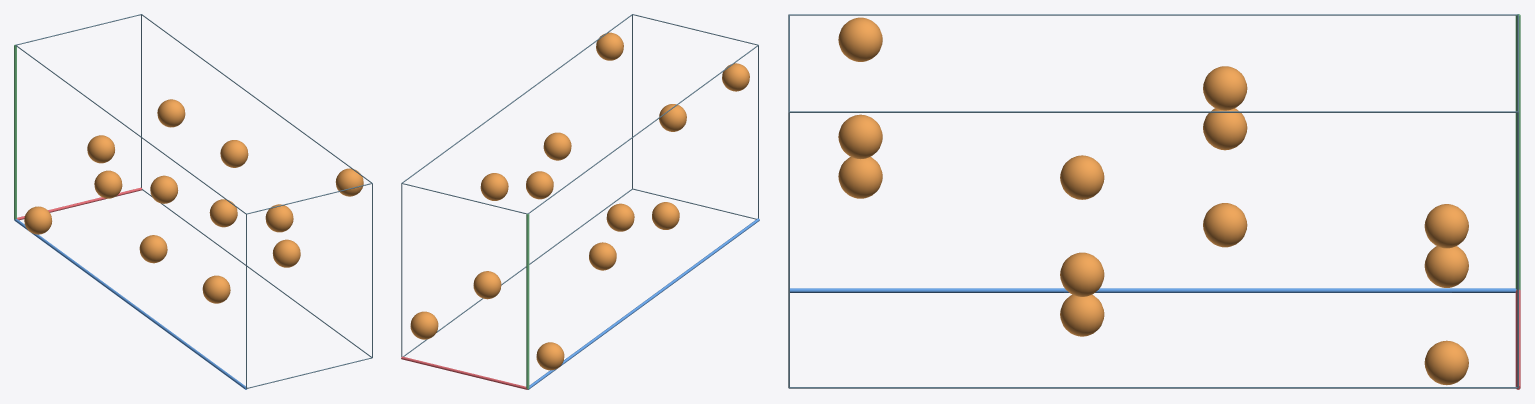
The model's file is nguyen-to-p.glb.
3 renders of one model, left to right at view 1: azimuth 30°, elevation 25°; view 2: azimuth 150°, elevation 25°; view 3: azimuth 270°, elevation 25°, orthographic. The views are drawn at different scales.
Visible parts, largest first — view 1: P · P · 1 (×12), Ô mạng và các trục a, b, c; view 2: P · P · 1 (×12), Ô mạng và các trục a, b, c; view 3: P · P · 1 (×12), Ô mạng và các trục a, b, c.
Boxes of the visible parts, x1,y1,x2,y2 form: P · P · 1 (×12): (24,99,363,303); Ô mạng và các trục a, b, c: (14,14,372,389); P · P · 1 (×12): (410,32,749,370); Ô mạng và các trục a, b, c: (401,14,759,389); P · P · 1 (×12): (838,17,1468,385); Ô mạng và các trục a, b, c: (788,14,1520,389).
Bounding box in the file's own units: 3.95 × 4.43 × 10.55.
